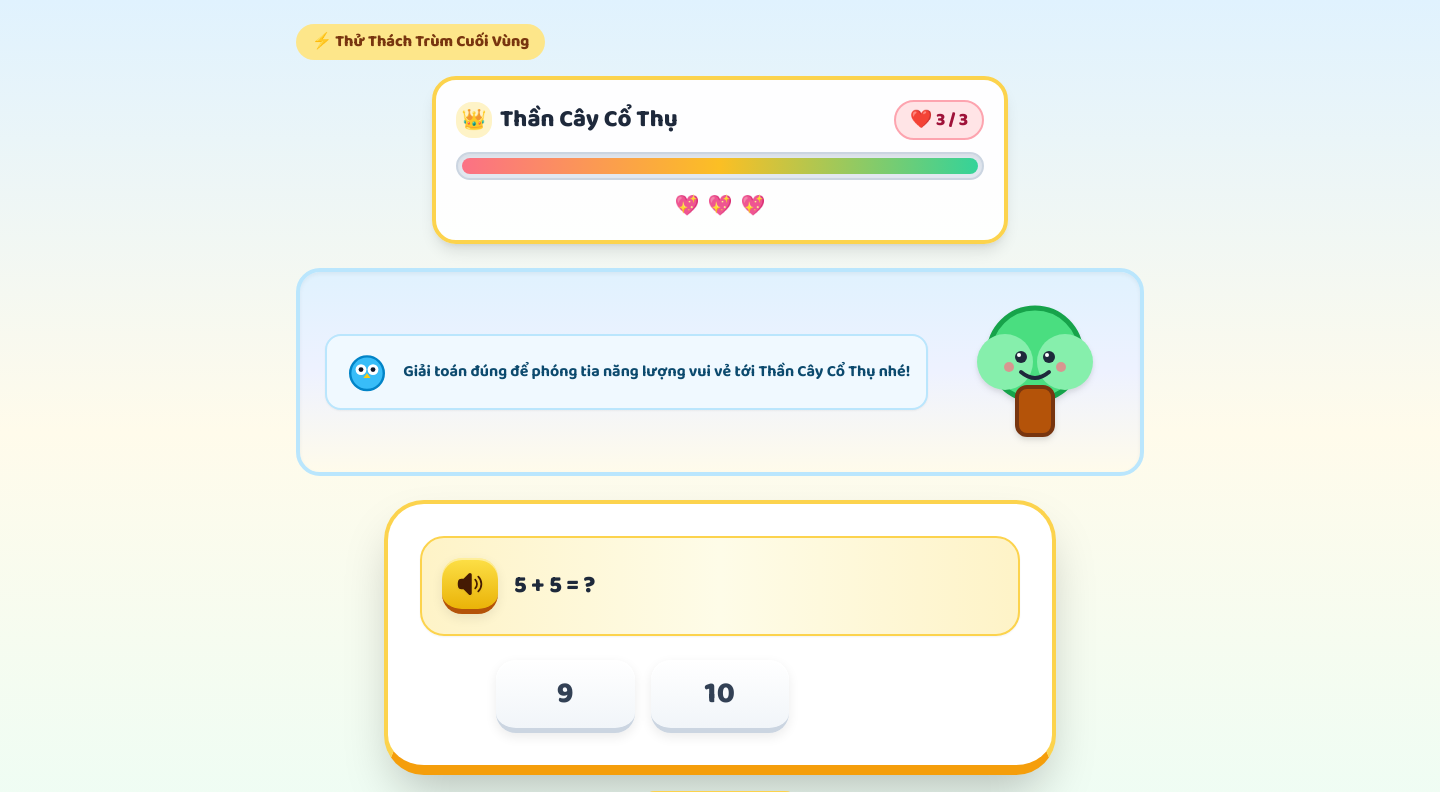
Test: BossBattleScreen › allows defeating Thần Cây Cổ Thụ (boss_c2) when answering all questions correctly even if bossMaxHp was misconfigured
What coordinates should you click on to do the following:
click the button "10"
I would click on:
 (720, 696)
Its box is [651,660,789,733].
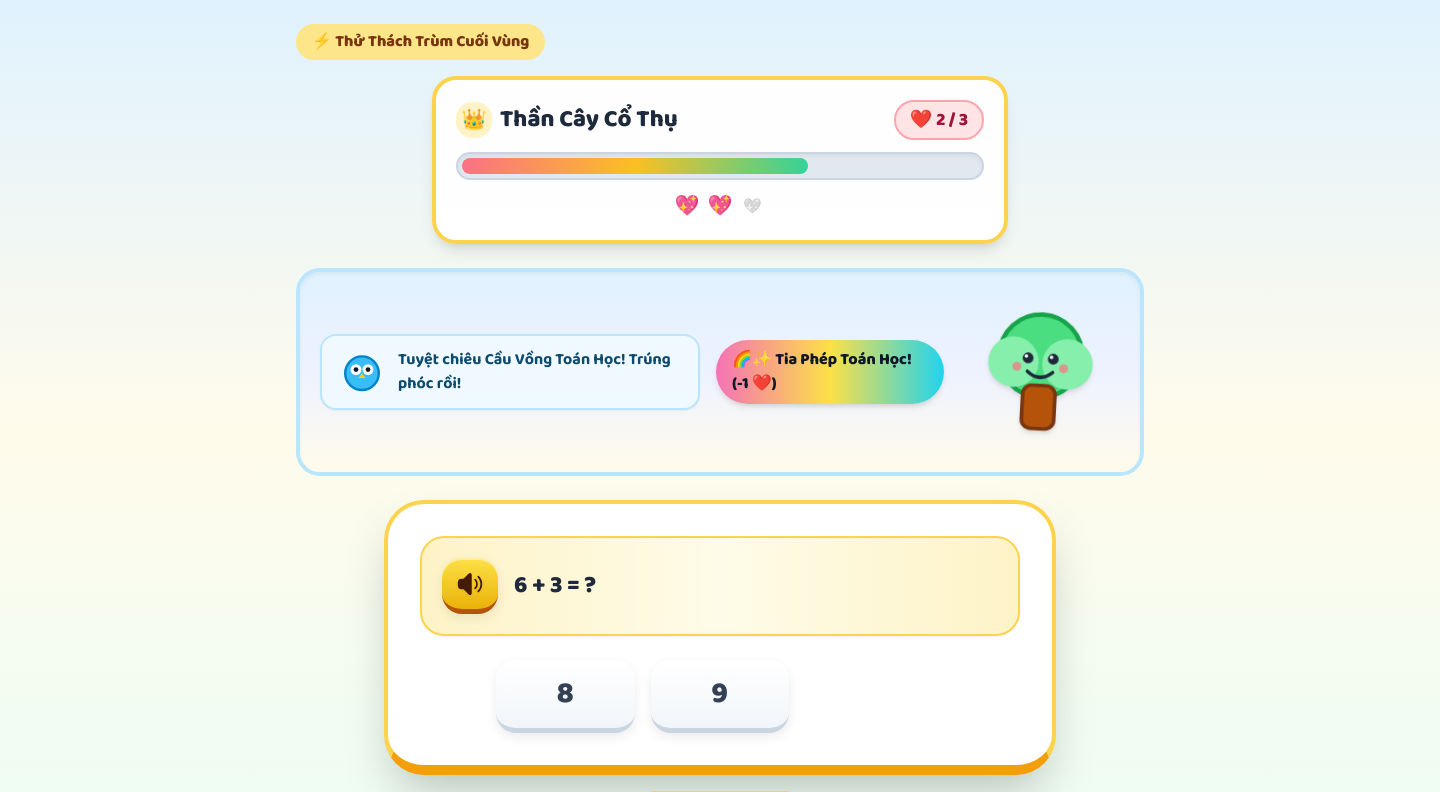
What coordinates should you click on to do the following:
click the button "9"
I would click on:
 (720, 696)
Its box is [651,660,789,733].
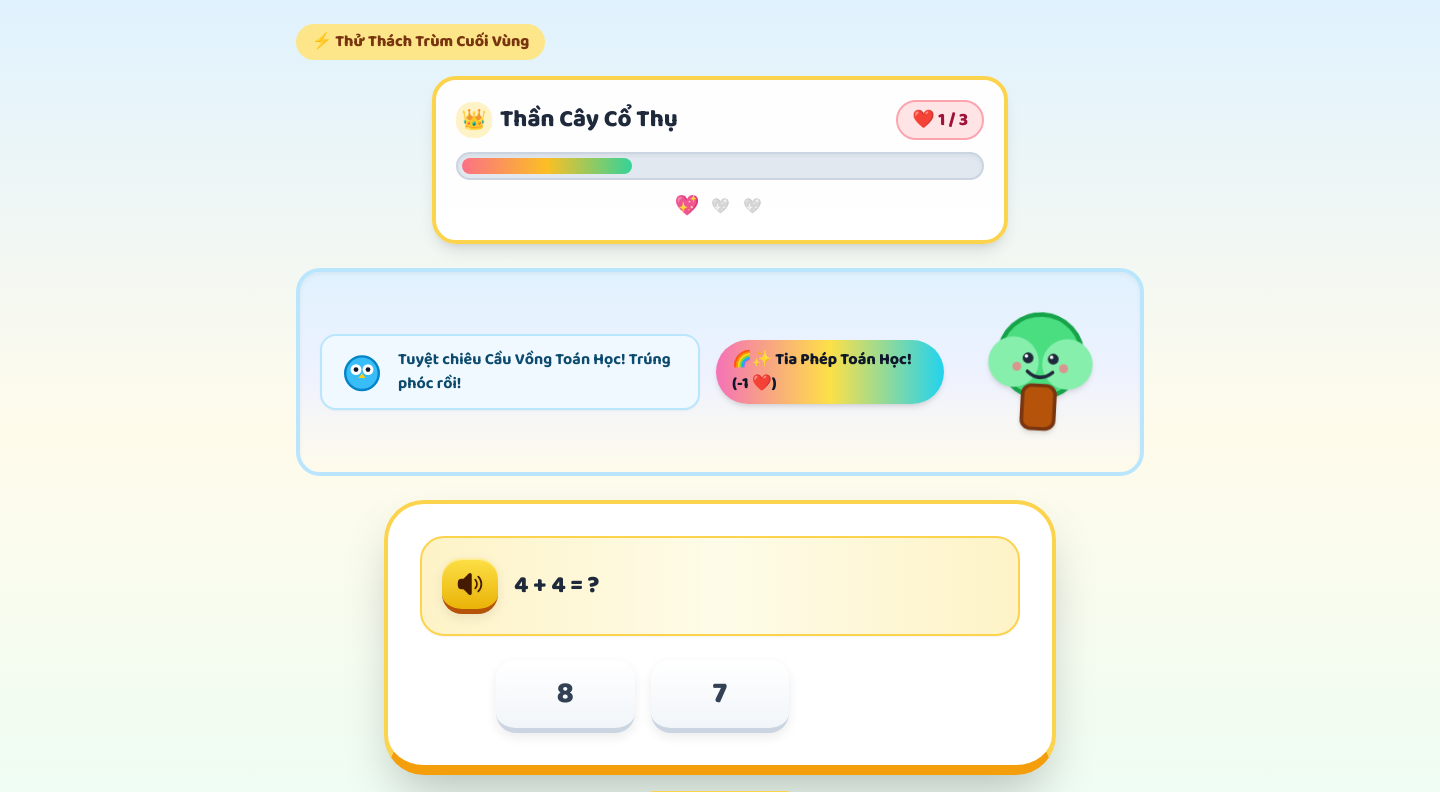
What coordinates should you click on to do the following:
click the button "8"
I would click on:
 (565, 696)
Its box is [496,660,635,733].
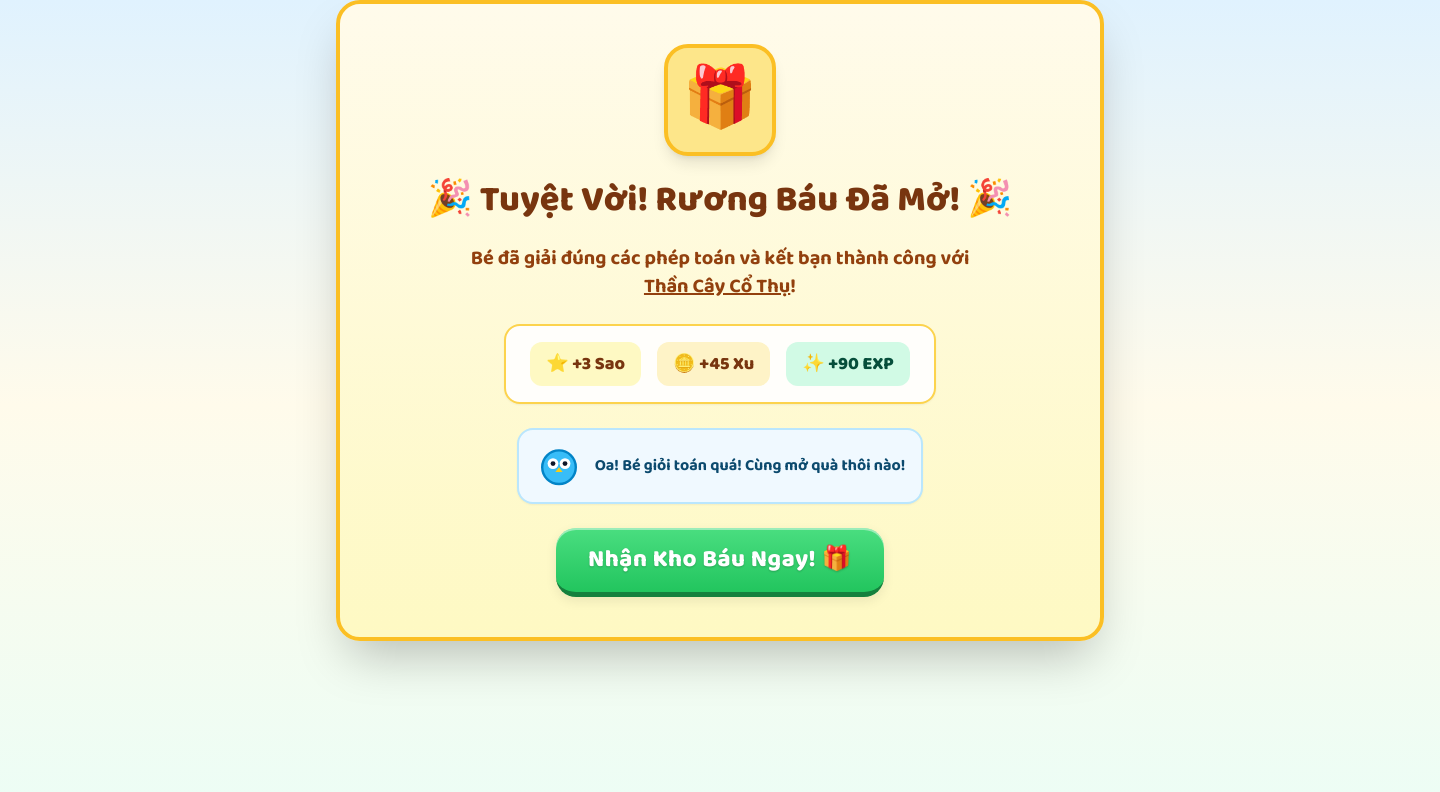
Result: the element with test id "boss-victory-screen" is shown at [336,0,1104,641]
